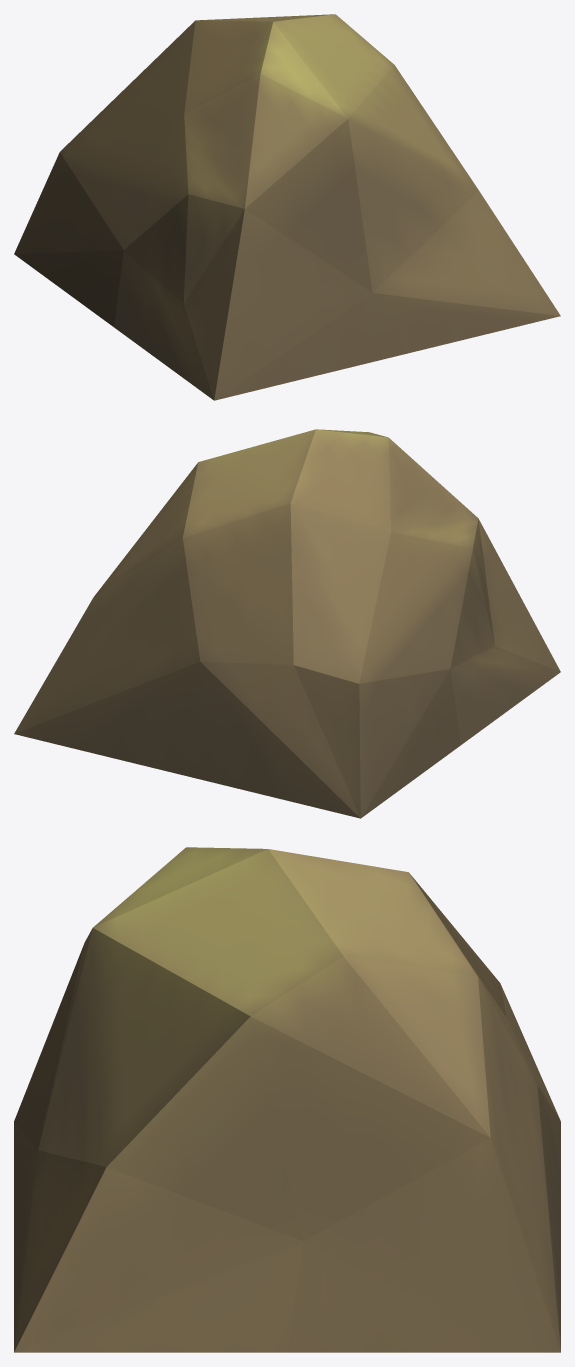
File: Rocher_D.FBX
3 renders of one model, top to bottom at view 1: azimuth 30°, elevation 25°; view 2: azimuth 150°, elevation 25°; view 3: azimuth 270°, elevation 25°, orthographic. The views are drawn at different scales.
Visible parts, largest first — view 1: Rocher_D; view 2: Rocher_D; view 3: Rocher_D.
Part boxes in pixels (x1,y1,x2,y2): Rocher_D: (14,14,560,400); Rocher_D: (14,429,560,818); Rocher_D: (14,847,560,1352).
Bounding box in the file's own units: 2 × 1.51 × 2.
